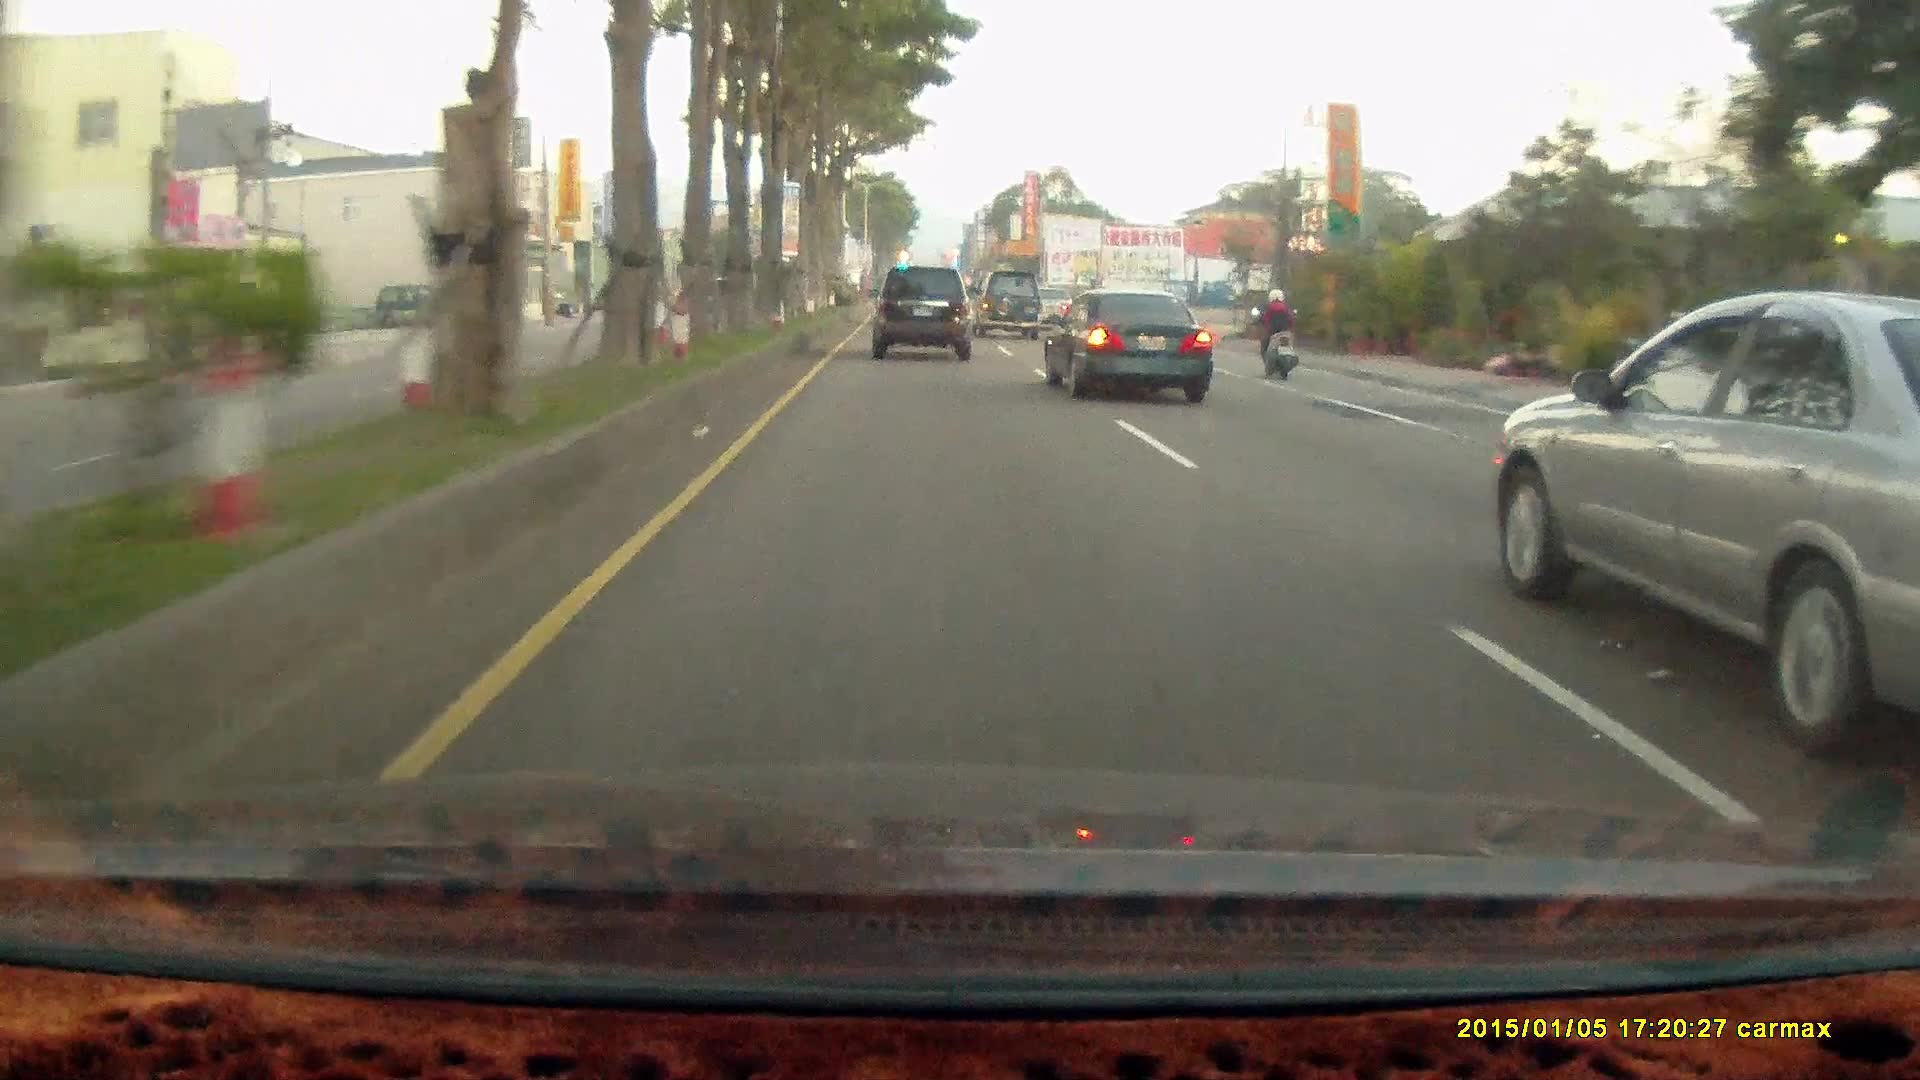rider: (1245, 279, 1309, 389), (1246, 284, 1300, 380)
vehicle: (1477, 292, 1918, 766), (1038, 292, 1216, 407), (1041, 288, 1211, 406), (869, 265, 974, 362), (869, 266, 972, 362), (968, 272, 1043, 344), (968, 268, 1043, 339), (371, 282, 462, 329)
